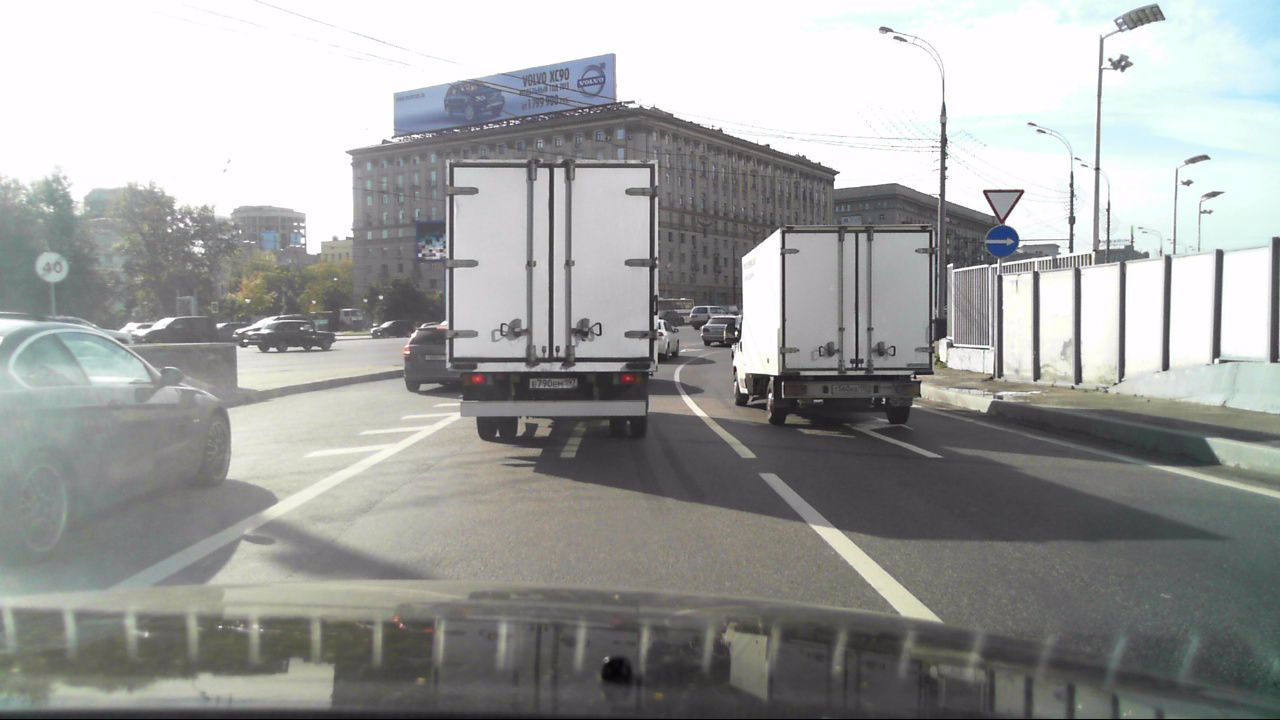Turn Right: (984, 225, 1020, 257)
